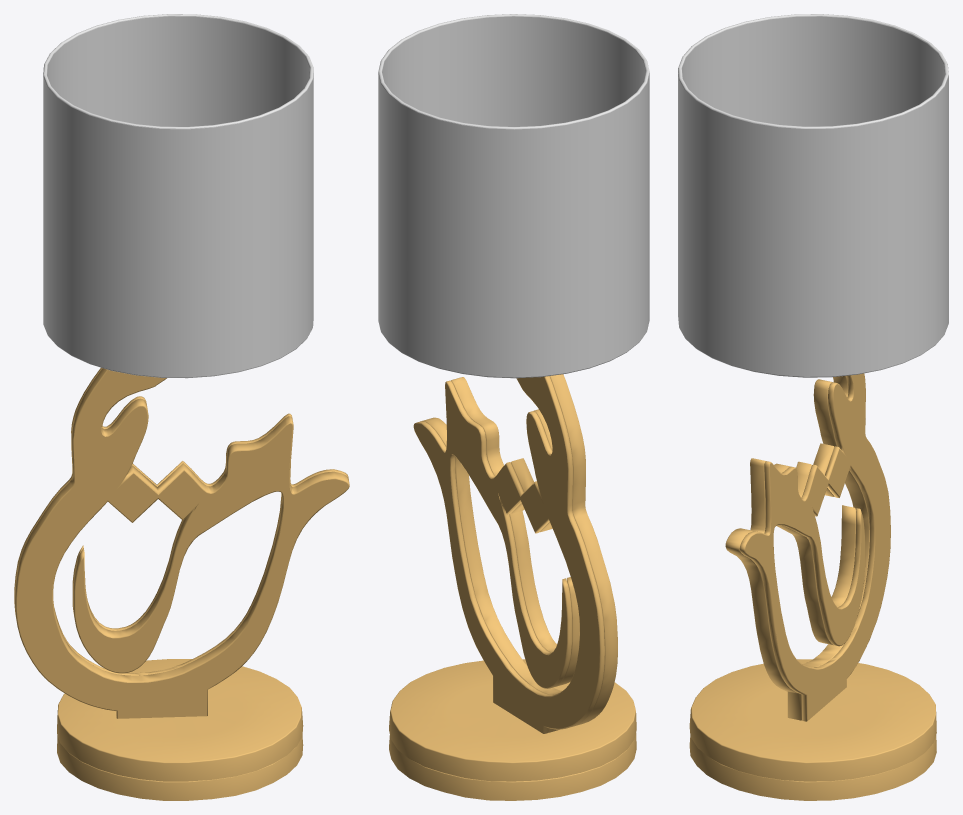
The model's file is MariamLamp3.fbx.
3 renders of one model, left to right at view 1: azimuth 30°, elevation 25°; view 2: azimuth 150°, elevation 25°; view 3: azimuth 270°, elevation 25°, orthographic.
Parts seen in each view (by area): view 1: Outside Cover Lamp.002, Mariam Thick, Base.001, Mariam slim; view 2: Outside Cover Lamp.002, Mariam slim, Base.001, Mariam Thick; view 3: Outside Cover Lamp.002, Base.001, Mariam slim, Mariam Thick.
Boxes of the visible parts, x1,y1,x2,y2 form: Outside Cover Lamp.002: (43, 14, 313, 378); Mariam Thick: (14, 368, 349, 718); Base.001: (57, 659, 303, 800); Mariam slim: (14, 367, 348, 711); Outside Cover Lamp.002: (378, 14, 649, 378); Mariam slim: (413, 376, 604, 733); Base.001: (389, 659, 636, 800); Mariam Thick: (420, 374, 617, 732); Outside Cover Lamp.002: (678, 14, 948, 377); Base.001: (689, 659, 936, 800); Mariam slim: (739, 373, 890, 721); Mariam Thick: (725, 376, 869, 720).
Size of the model in its own units: 196 by 474 by 172.
